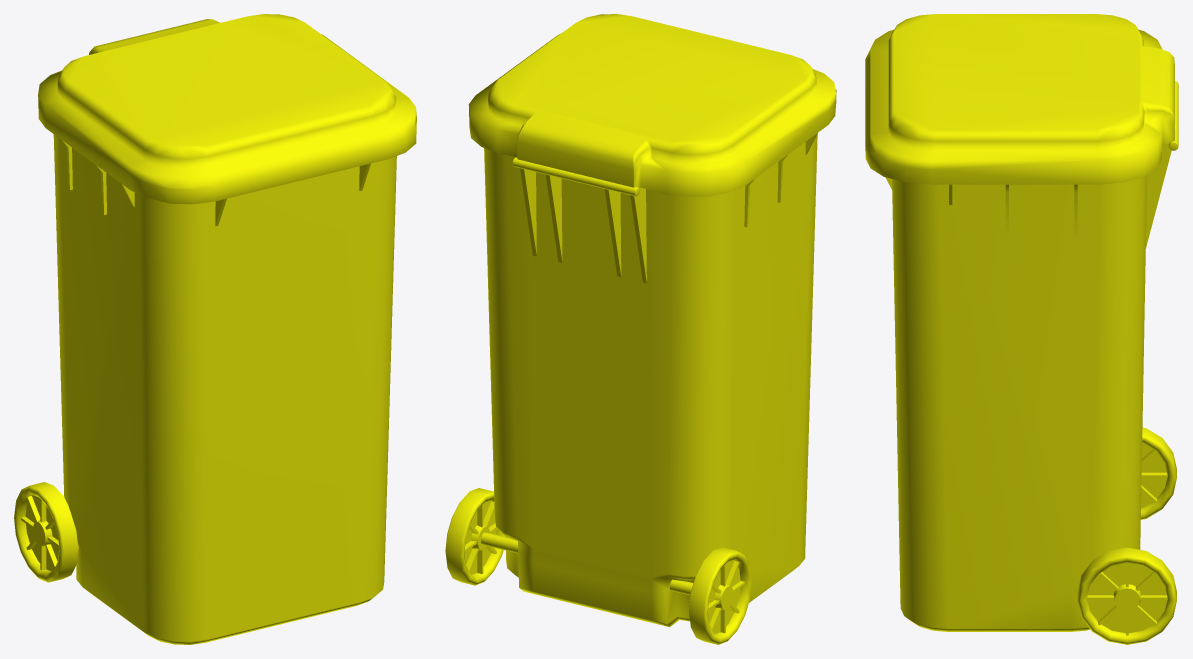
The model's file is plastic-bin.glb.
3 renders of one model, left to right at view 1: azimuth 30°, elevation 25°; view 2: azimuth 150°, elevation 25°; view 3: azimuth 270°, elevation 25°, orthographic. The views are drawn at different scales.
Visible parts, largest first — view 1: Trash_Bin_yellow_0; view 2: Trash_Bin_yellow_0; view 3: Trash_Bin_yellow_0.
Boxes of the visible parts, <box> form: Trash_Bin_yellow_0: <box>14,14,416,644</box>; Trash_Bin_yellow_0: <box>445,14,836,644</box>; Trash_Bin_yellow_0: <box>865,14,1178,644</box>.
Size of the model in its own units: 0.5766 by 1 by 0.5588.
